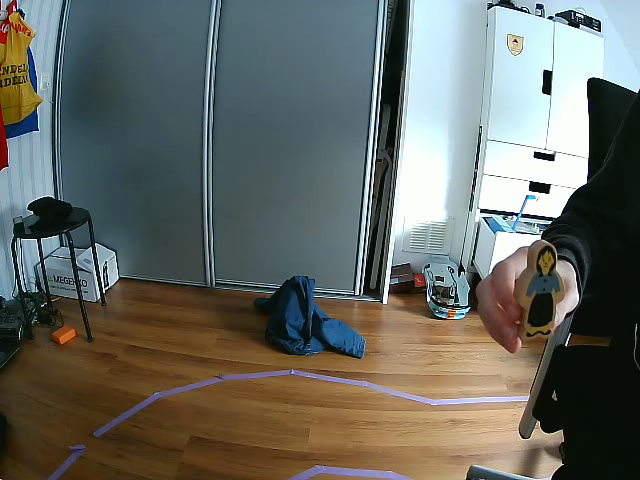mens: (518, 239, 565, 337)
